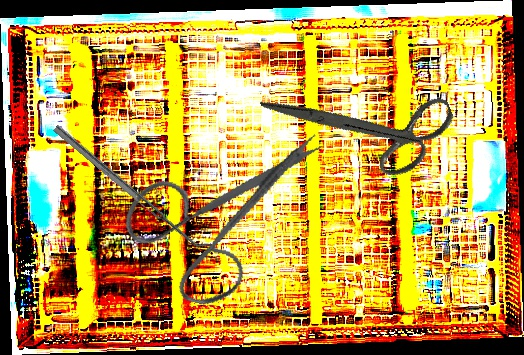Iris Scissors: (108, 92, 330, 325), (259, 35, 467, 215)
Spatula Surgical: (52, 119, 213, 256)
